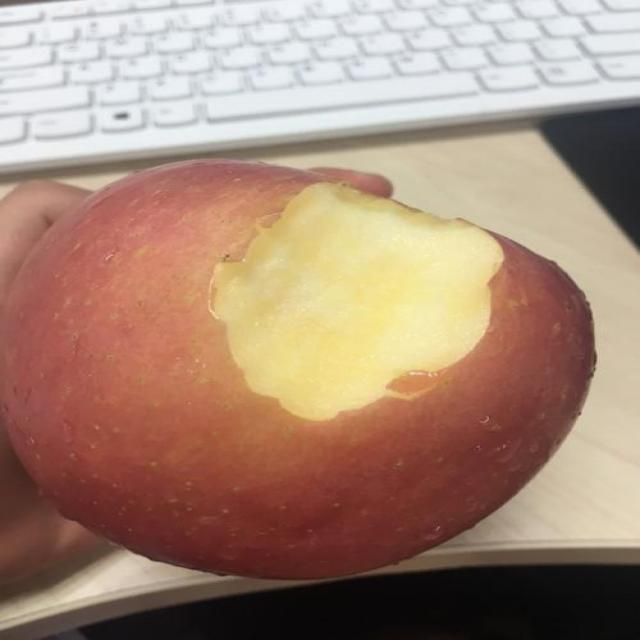Rotten: (0, 151, 596, 588)
